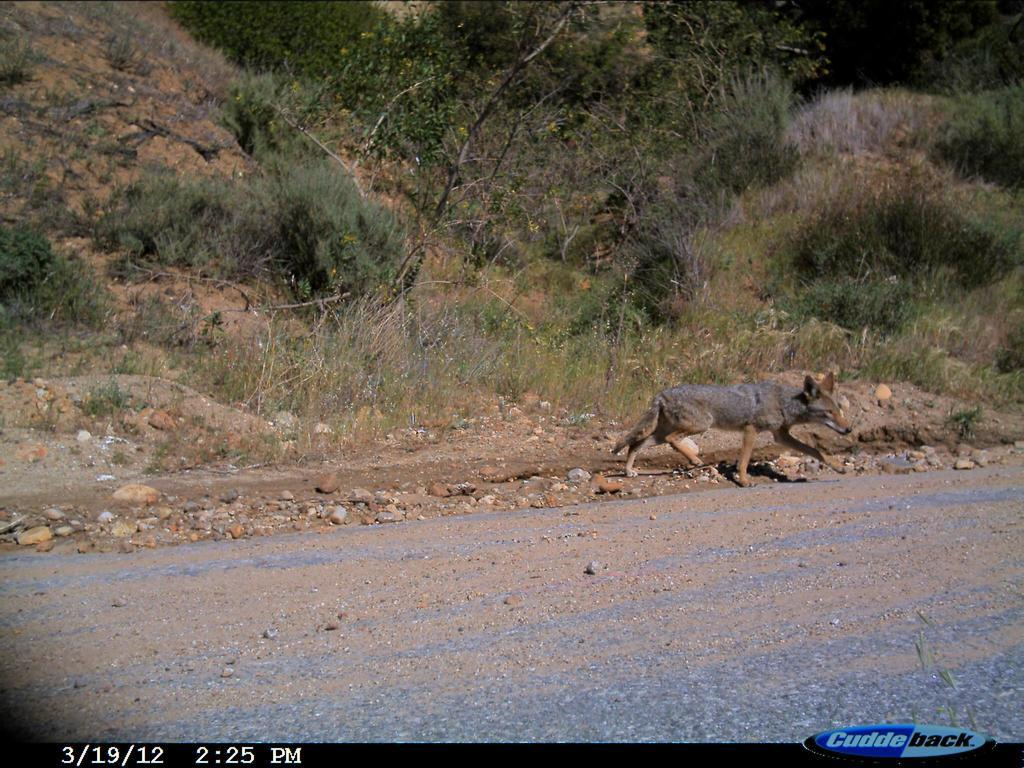coyote: (605, 358, 854, 492)
